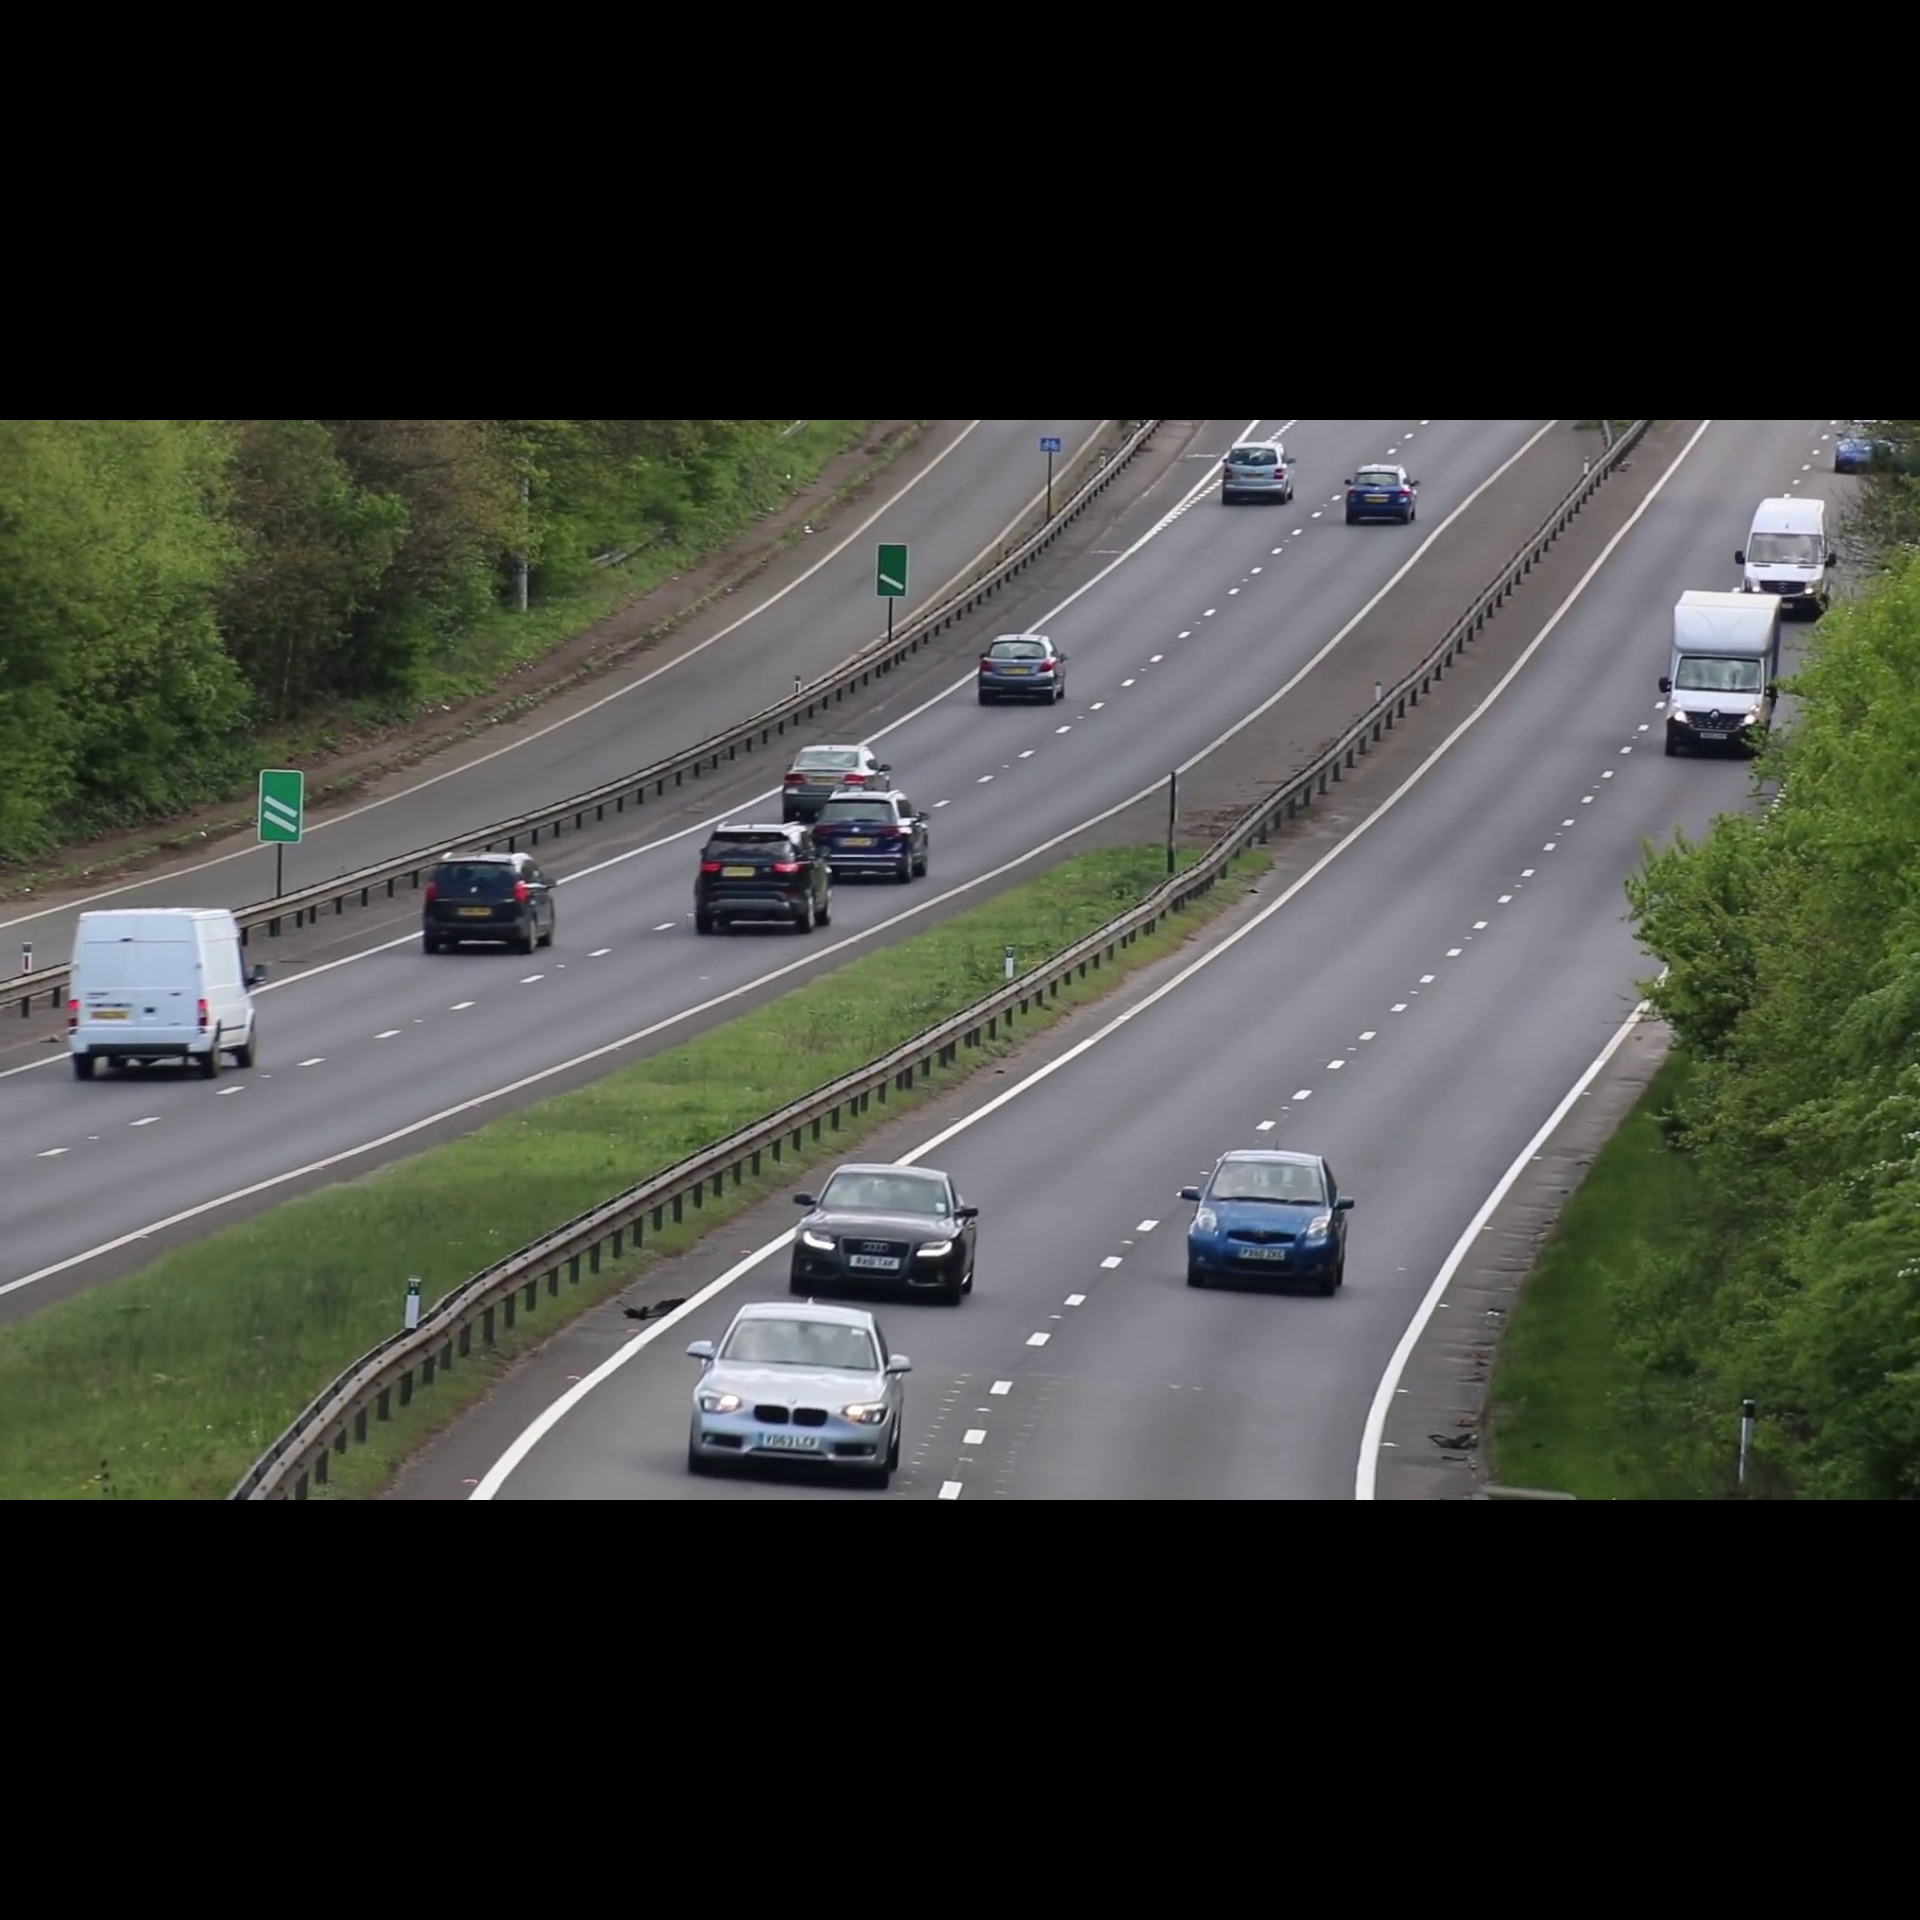vehicle: (675, 1299, 913, 1491), (58, 898, 269, 1087), (782, 1146, 986, 1306), (1180, 1143, 1357, 1305), (1649, 593, 1783, 774), (687, 823, 839, 944), (411, 844, 559, 964), (816, 786, 932, 884), (1741, 491, 1830, 610), (972, 628, 1073, 710), (779, 740, 897, 798), (1342, 461, 1422, 531), (1217, 438, 1298, 506)
